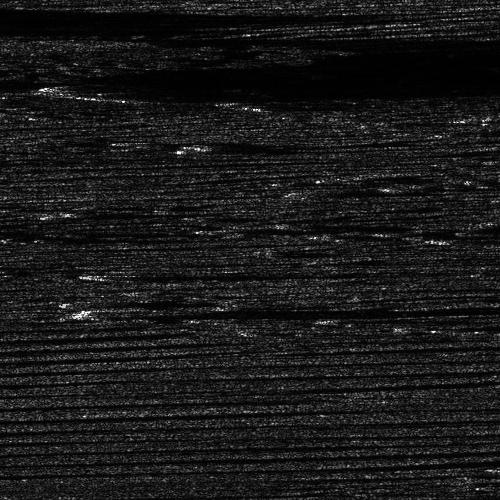rock: (0, 28, 329, 91), (448, 100, 500, 127)
shadow: (7, 28, 500, 91)
